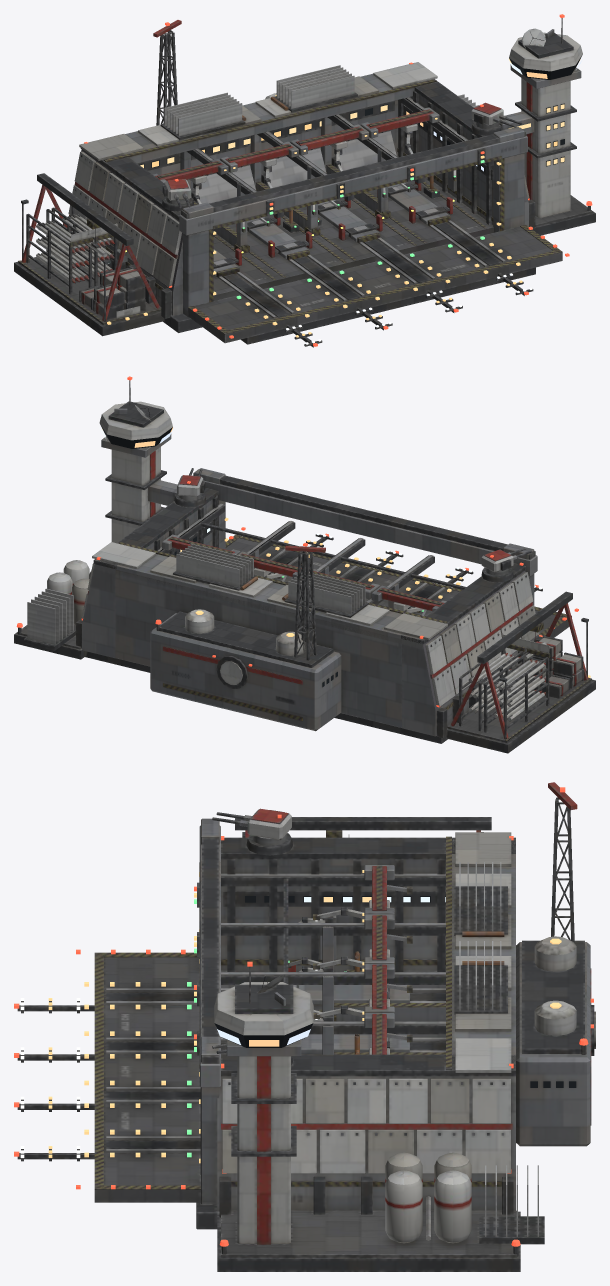
Rendered from mercenary_outpost.glb.
The picture shows the model from 3 angles, top to bottom: view 1: azimuth 30°, elevation 25°; view 2: azimuth 150°, elevation 25°; view 3: azimuth 270°, elevation 25°; orthographic projection. The views are drawn at different scales.
Visible parts, largest first — view 1: mercenary_outpost_hull, mercenary_outpost_lights; view 2: mercenary_outpost_hull, mercenary_outpost_lights; view 3: mercenary_outpost_hull, mercenary_outpost_lights.
Boxes of the visible parts, bbox=[...] form: mercenary_outpost_hull: bbox=[14, 18, 595, 347]; mercenary_outpost_lights: bbox=[84, 14, 592, 346]; mercenary_outpost_hull: bbox=[14, 380, 595, 753]; mercenary_outpost_lights: bbox=[16, 376, 590, 707]; mercenary_outpost_hull: bbox=[17, 782, 595, 1271]; mercenary_outpost_lights: bbox=[14, 787, 593, 1246].
Bounding box in the file's own units: 69.2 × 28.04 × 49.88.
10 materials, 1 textured.
